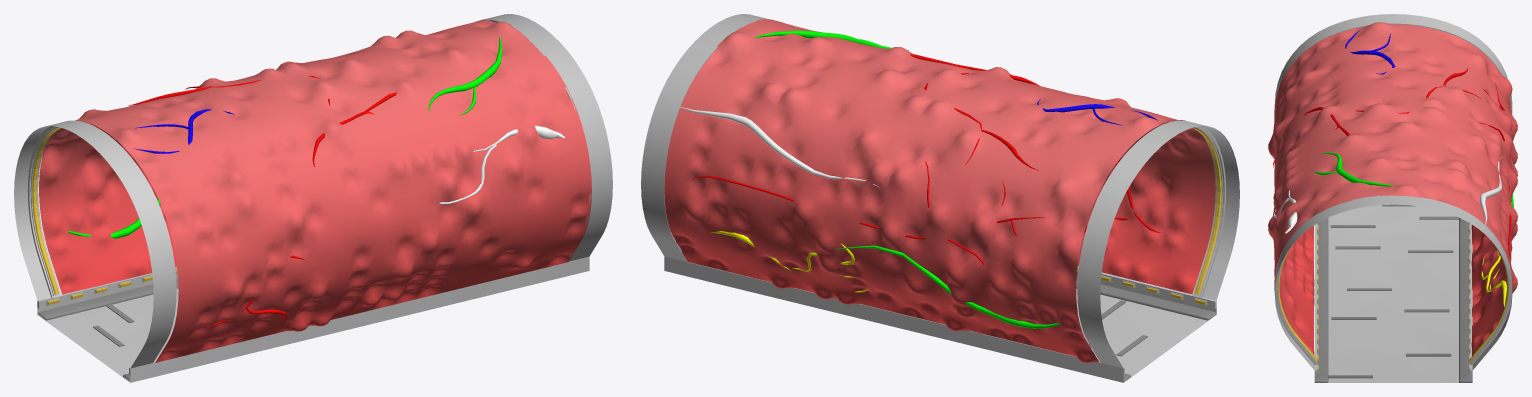
Rendered from Terowongan_1_Lurus.fbx.
3 renders of one model, left to right at view 1: azimuth 30°, elevation 25°; view 2: azimuth 150°, elevation 25°; view 3: azimuth 270°, elevation 25°, orthographic. The views are drawn at different scales.
Visible parts, largest first — view 1: Terowongan 1_Lurus; view 2: Terowongan 1_Lurus; view 3: Terowongan 1_Lurus.
Boxes of the visible parts, x1,y1,x2,y2 form: Terowongan 1_Lurus: (14, 14, 612, 382); Terowongan 1_Lurus: (641, 14, 1239, 382); Terowongan 1_Lurus: (1268, 14, 1517, 382).
Size of the model in its own units: 1000 by 450 by 554.
Materials: 4 (4 with a texture image).
